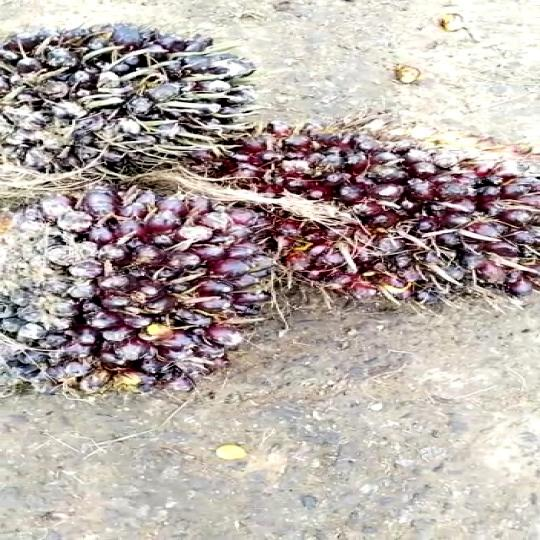kurang masak: (193, 115, 540, 318), (0, 186, 295, 408), (0, 16, 242, 180)
